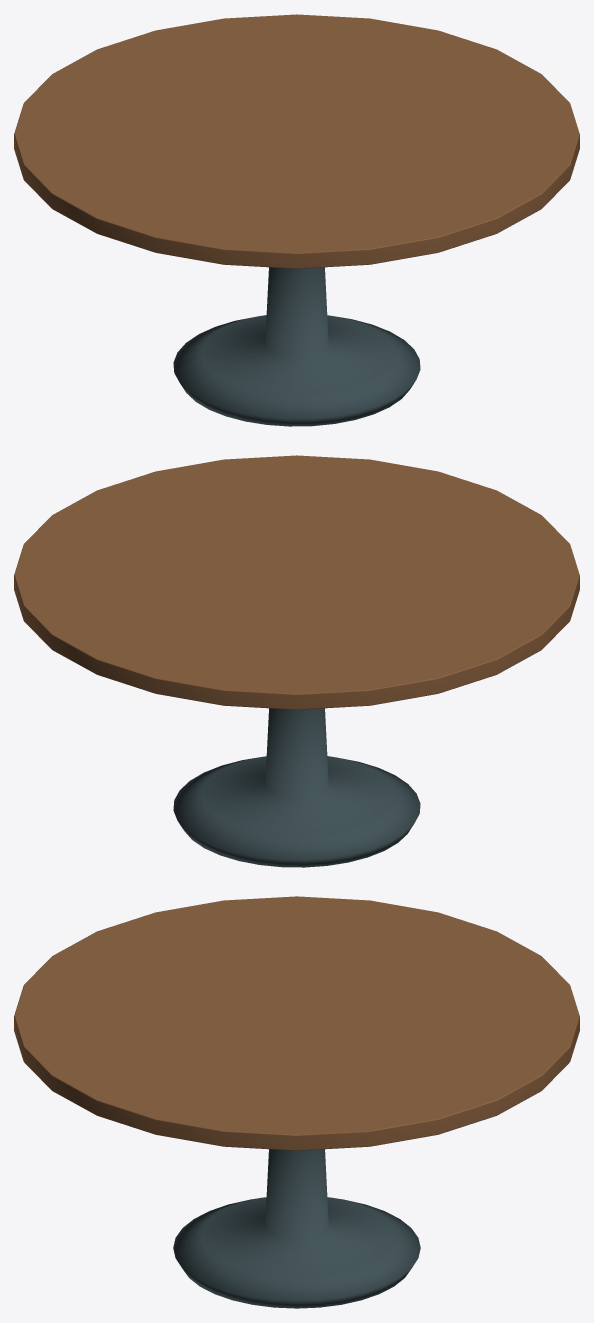
Rendered from HotelTogether-DiningTableRound.glb.
The picture shows the model from 3 angles, top to bottom: view 1: azimuth 30°, elevation 25°; view 2: azimuth 150°, elevation 25°; view 3: azimuth 270°, elevation 25°; orthographic projection.
Parts seen in each view (by area): view 1: Round_WoodTop, Round_Pedestal; view 2: Round_WoodTop, Round_Pedestal; view 3: Round_WoodTop, Round_Pedestal.
Boxes of the visible parts, bbox=[...] form: Round_WoodTop: bbox=[14, 14, 579, 268]; Round_Pedestal: bbox=[173, 267, 420, 426]; Round_WoodTop: bbox=[14, 455, 579, 709]; Round_Pedestal: bbox=[173, 708, 420, 867]; Round_WoodTop: bbox=[14, 896, 579, 1150]; Round_Pedestal: bbox=[173, 1149, 420, 1308].
Size of the model in its own units: 1.6 by 0.76 by 1.6.
